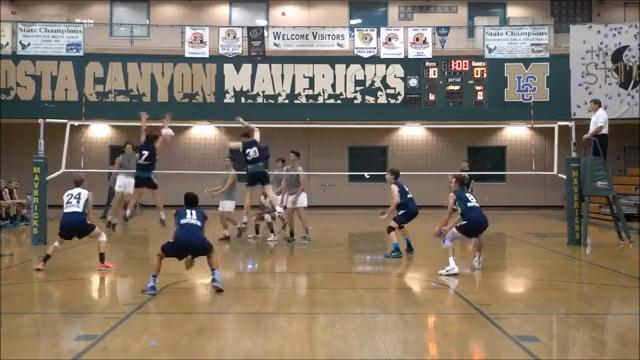muro: (125, 107, 171, 232)
